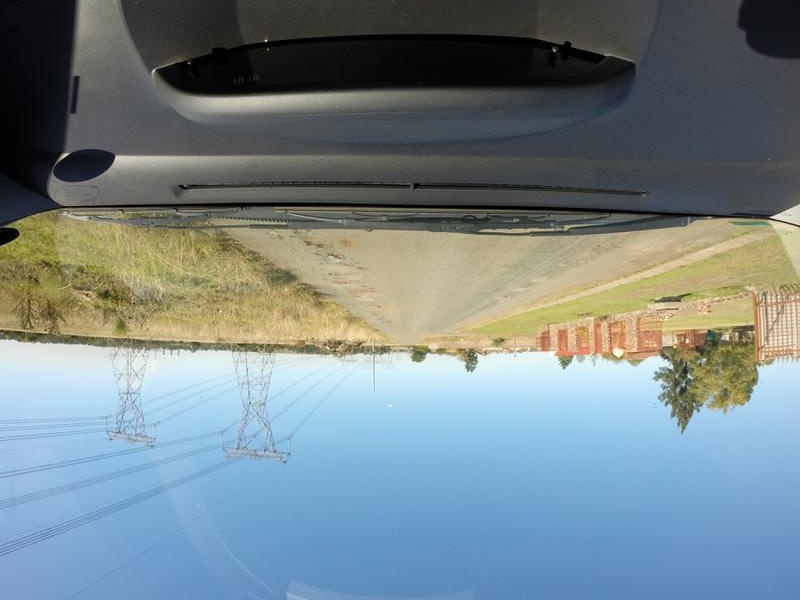pothole: (306, 235, 332, 248), (347, 263, 373, 271), (360, 287, 375, 295), (333, 279, 355, 284), (342, 238, 351, 249), (327, 252, 346, 257), (273, 232, 282, 242), (315, 253, 329, 258)
